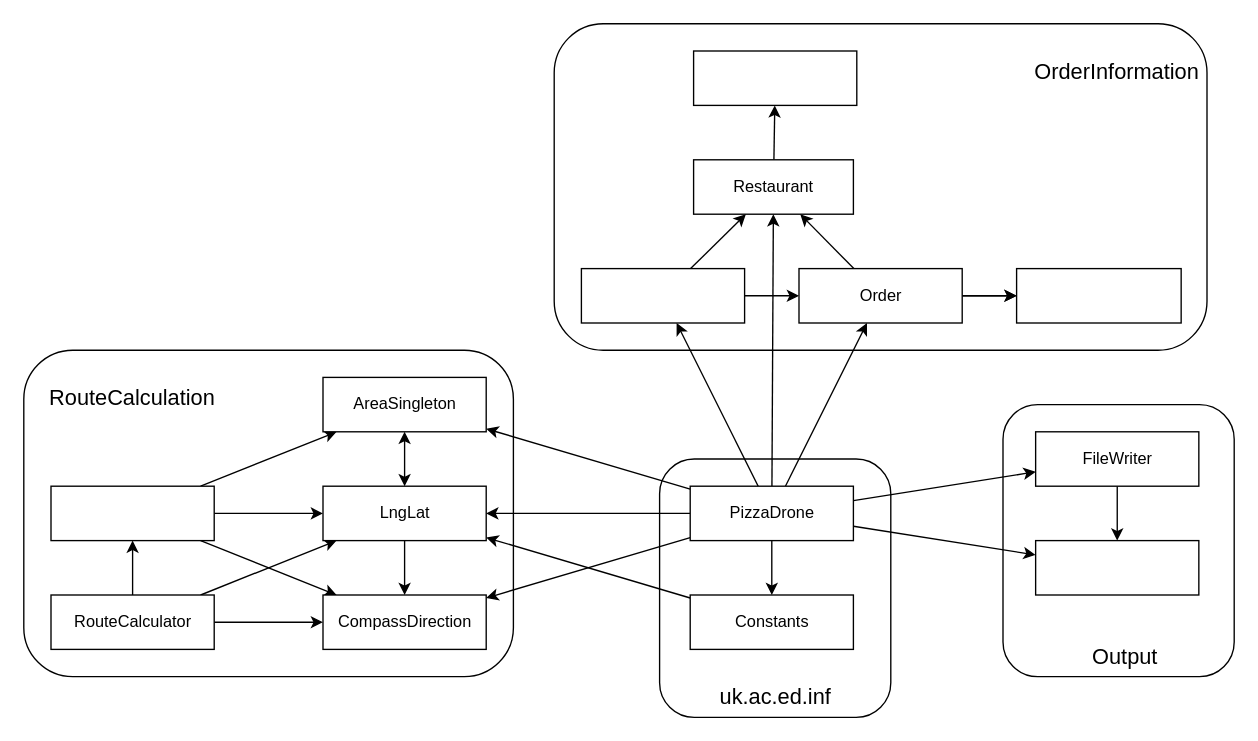
Image size: 1258x741. Some labels were removed from this diagram. Each missing label, with the centre of its shape:
"FlightPathPoint" belongs at point (1116, 567).
"Menu" belongs at point (774, 77).
"Node" belongs at point (132, 513).
"OrderOutcome" belongs at point (1098, 295).
"OrderRetriever" belongs at point (662, 295).
